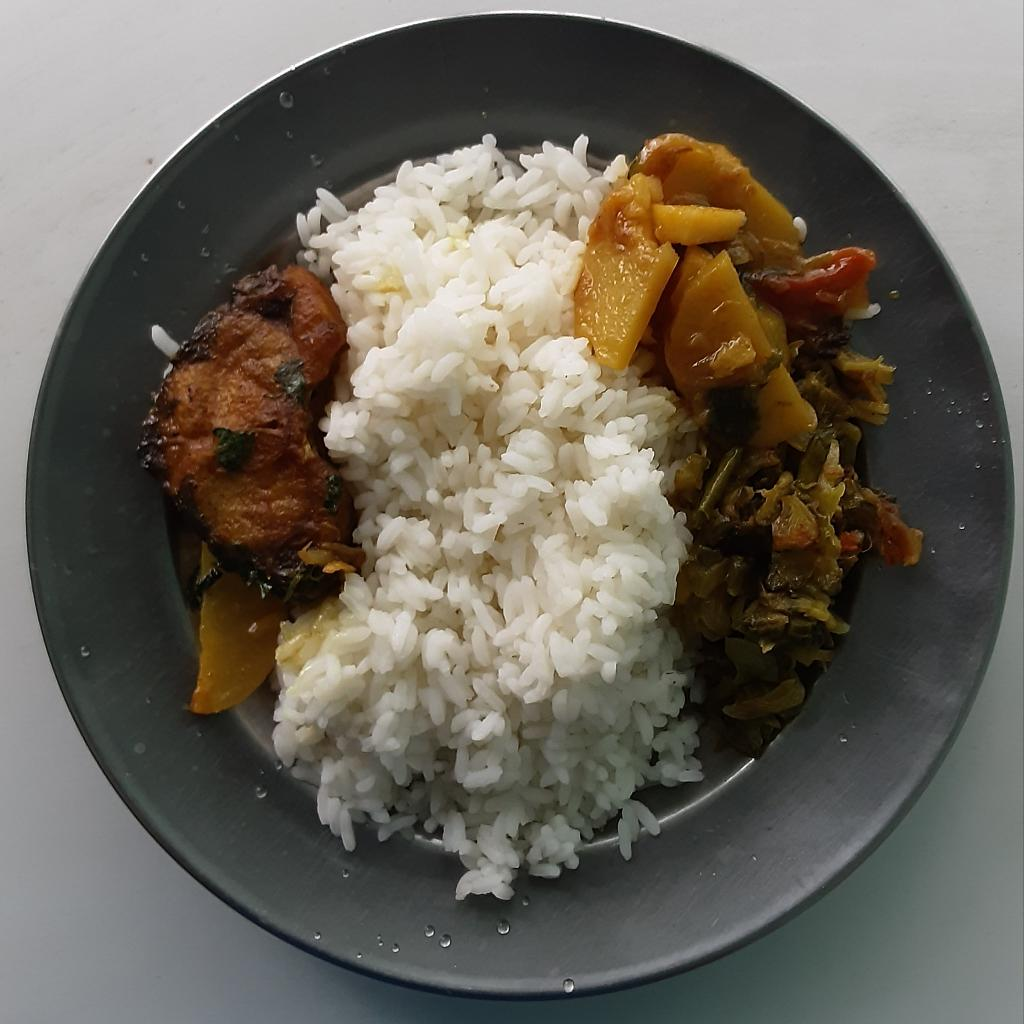fish: (136, 264, 362, 618)
korola-vaji: (675, 302, 928, 754)
potato: (570, 136, 810, 443), (188, 553, 288, 723)
rice: (273, 137, 700, 904)
tomato: (764, 247, 875, 311)
